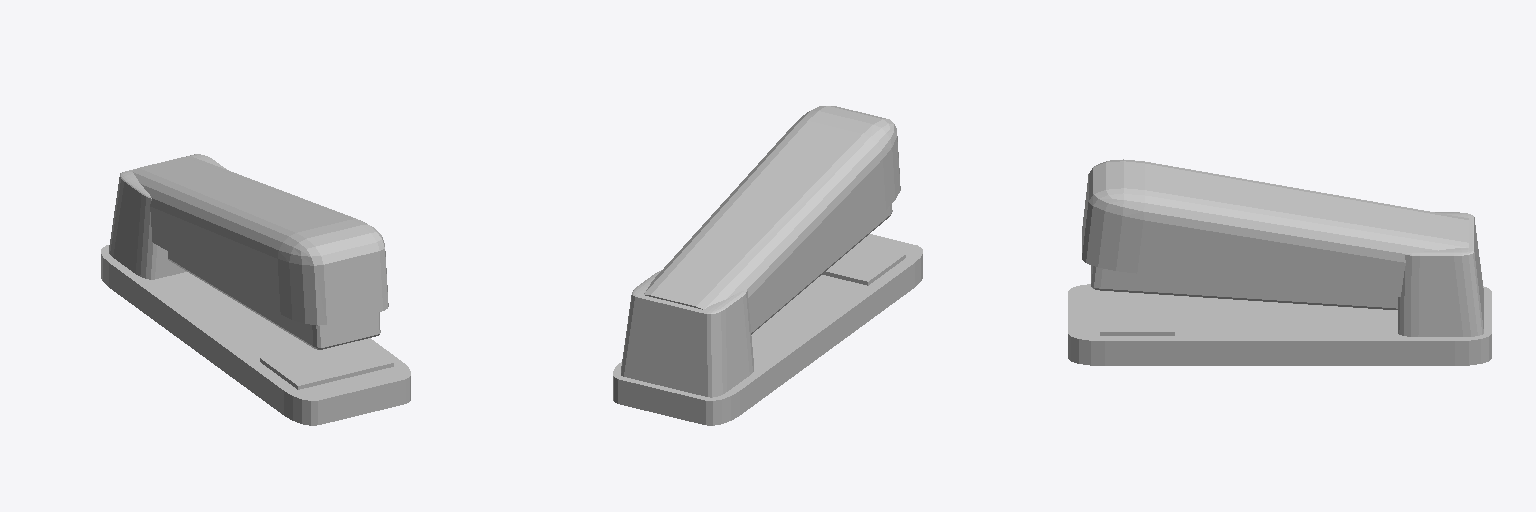
File: stapler.obj
3 views of the same model, side by side, from view 1: azimuth 30°, elevation 25°; view 2: azimuth 150°, elevation 25°; view 3: azimuth 270°, elevation 25° (orthographic).
Parts seen in each view (by area): view 1: Cube; view 2: Cube; view 3: Cube.
Part boxes in pixels (left/top/right/bottom): Cube: left=101, top=154, right=410, bottom=425; Cube: left=613, top=106, right=922, bottom=425; Cube: left=1068, top=159, right=1491, bottom=365.
Size of the model in its own units: 1 by 1.31 by 3.09.